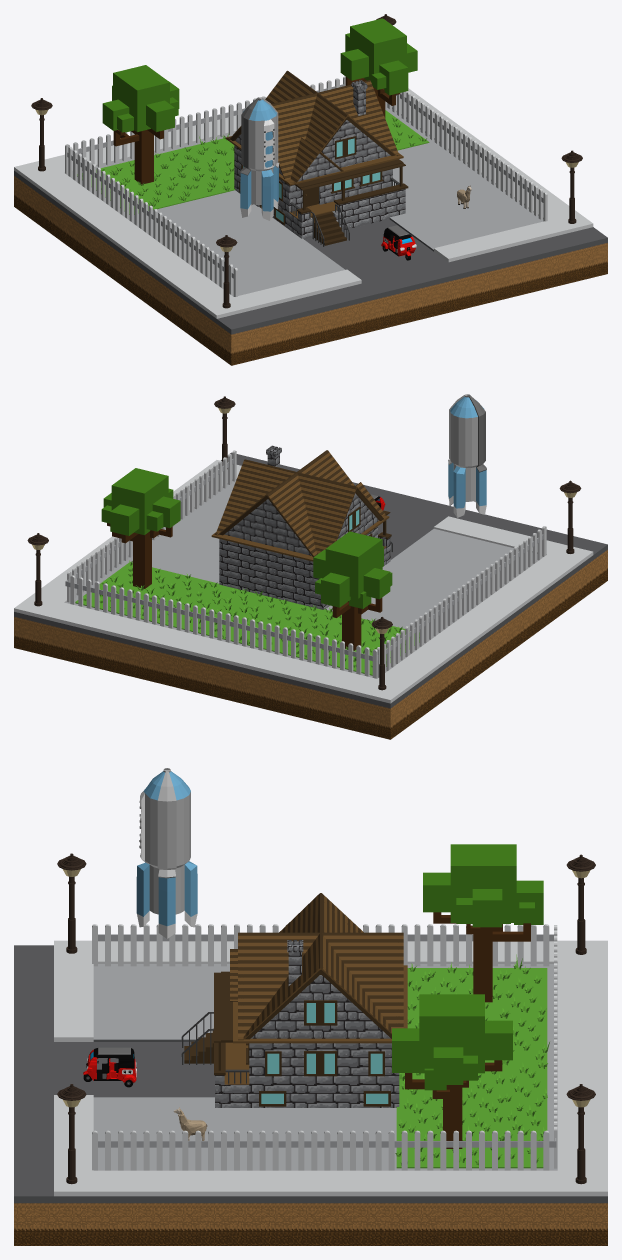
The picture shows the model from 3 angles, top to bottom: view 1: azimuth 30°, elevation 25°; view 2: azimuth 150°, elevation 25°; view 3: azimuth 270°, elevation 25°; orthographic projection. The views are drawn at different scales.
Visible parts, largest first — view 1: Cube.004, Cube.586, OBJRANDOM_ROCKETSHIP, VEHICLES_TUC_TUC; view 2: Cube.004, Cube.586, OBJRANDOM_ROCKETSHIP; view 3: Cube.004, Cube.586, OBJRANDOM_ROCKETSHIP, VEHICLES_TUC_TUC.
Part boxes in pixels (<box>): Cube.004: <box>14,14,607,365</box>; Cube.586: <box>226,70,408,246</box>; OBJRANDOM_ROCKETSHIP: <box>240,97,279,220</box>; VEHICLES_TUC_TUC: <box>381,225,416,260</box>; Cube.004: <box>14,396,607,739</box>; Cube.586: <box>211,445,392,609</box>; OBJRANDOM_ROCKETSHIP: <box>448,394,486,517</box>; Cube.004: <box>14,844,607,1245</box>; Cube.586: <box>181,893,407,1107</box>; OBJRANDOM_ROCKETSHIP: <box>136,768,197,938</box>; VEHICLES_TUC_TUC: <box>83,1047,136,1087</box>.
Size of the model in its own units: 4000 by 2147 by 4000.
36 materials, 4 textured.
